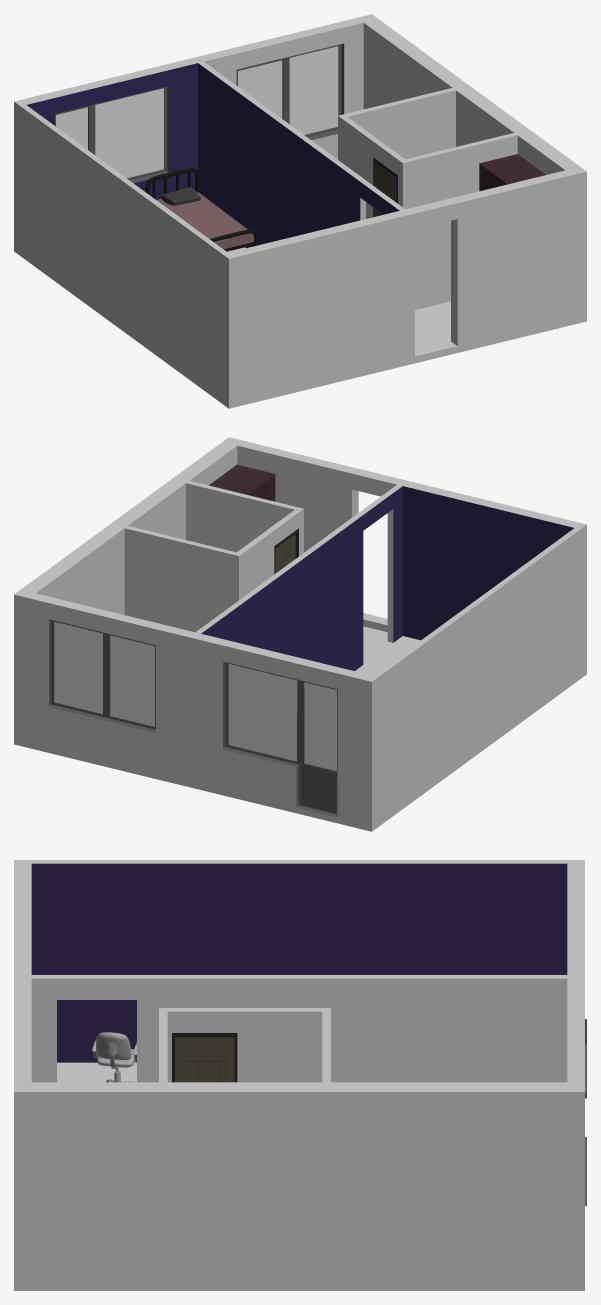
The model's file is dom 1.fbx.
The picture shows the model from 3 angles, top to bottom: view 1: azimuth 30°, elevation 25°; view 2: azimuth 150°, elevation 25°; view 3: azimuth 270°, elevation 25°; orthographic projection. The views are drawn at different scales.
Parts seen in each view (by area): view 1: Cube, Plane, Plane.007, pilow, Plane.001, Cube.002, Plane.005, DoorBoddy; view 2: Cube, Plane, Plane.007, Plane.001, Plane.005, Cube.002, DoorBoddy; view 3: Cube, DoorBoddy, Chair:polySurface1, OutBoddy.
Part boxes in pixels (x1,y1,x2,y2): Cube: [14, 14, 586, 408]; Plane: [236, 43, 343, 140]; Plane.007: [95, 88, 163, 178]; pilow: [145, 167, 257, 251]; Plane.001: [55, 86, 169, 183]; Cube.002: [479, 154, 545, 191]; Plane.005: [56, 107, 87, 149]; DoorBoddy: [376, 163, 396, 216]; Cube: [14, 437, 586, 831]; Plane: [48, 619, 155, 732]; Plane.007: [228, 664, 297, 761]; Plane.001: [222, 661, 337, 817]; Plane.005: [304, 682, 336, 770]; Cube.002: [209, 464, 275, 501]; DoorBoddy: [275, 534, 295, 573]; Cube: [14, 860, 584, 1290]; DoorBoddy: [175, 1037, 234, 1082]; Chair:polySurface1: [92, 1032, 136, 1082]; OutBoddy: [172, 1033, 237, 1082].
Size of the model in its own units: 625 by 251 by 652.
